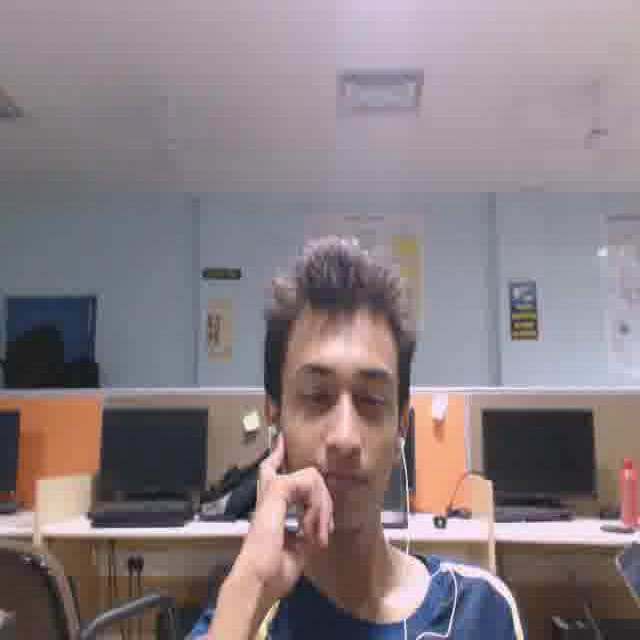Boredom: (278, 309, 398, 522)
